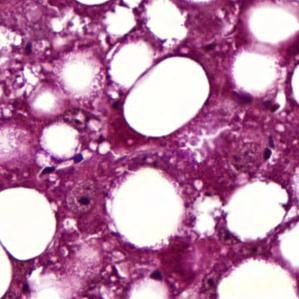steatosis: (121, 59, 213, 136)
